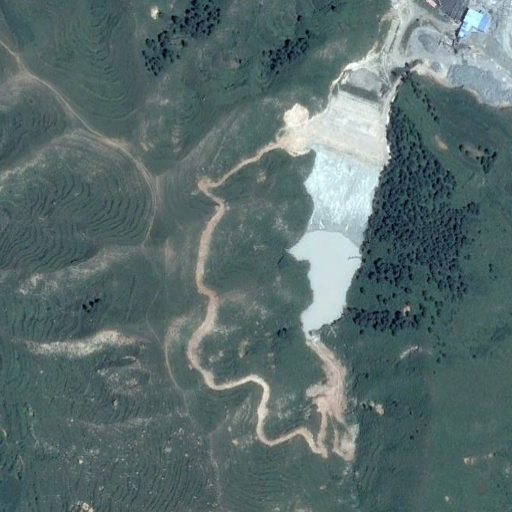tp: (288, 71, 389, 332)
